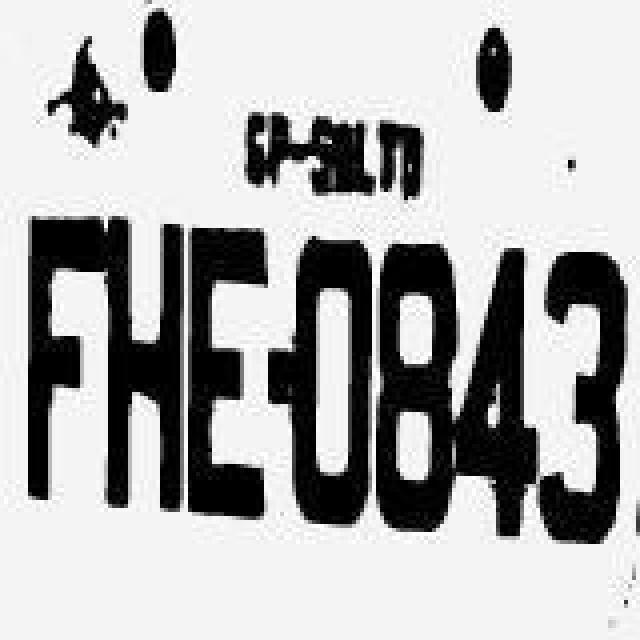3: (532, 248, 628, 552)
4: (454, 244, 538, 540)
8: (374, 244, 458, 540)
E: (182, 226, 266, 526)
F: (20, 214, 108, 506)
H: (102, 210, 186, 526)
O: (296, 236, 376, 532)
